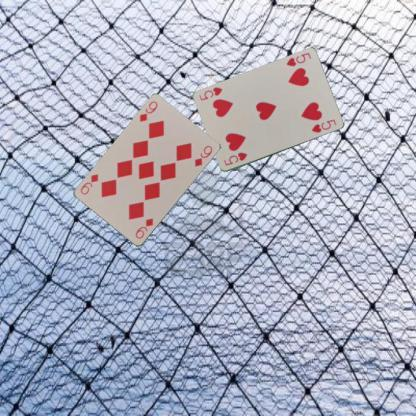5h: (284, 50, 312, 68), (221, 150, 248, 167)
9d: (137, 98, 159, 124), (132, 216, 154, 240)
